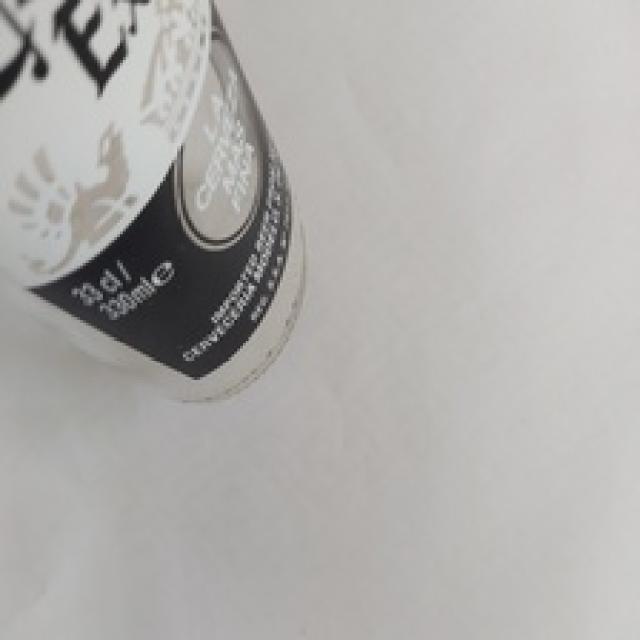Glass: (0, 0, 309, 404)
